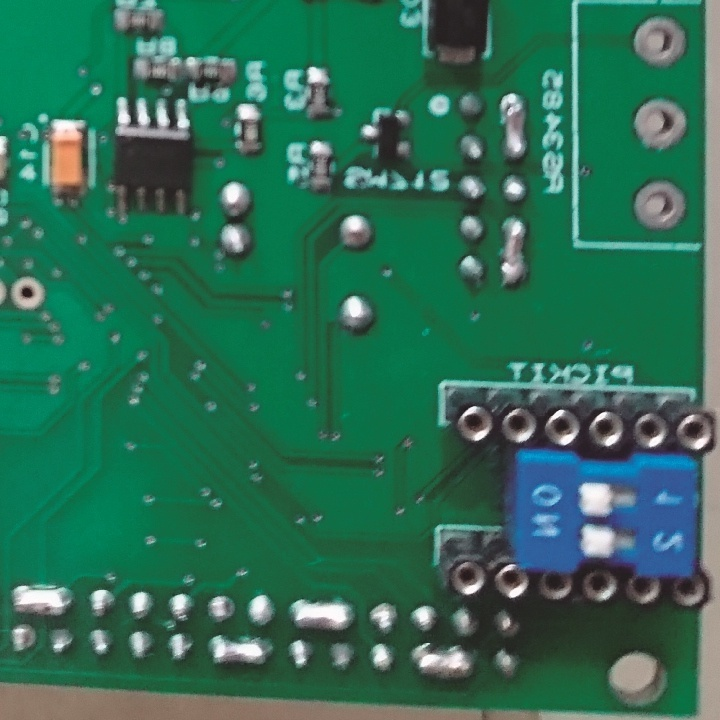F: (631, 95, 689, 158), (628, 13, 687, 68), (629, 178, 687, 233), (10, 275, 47, 315), (367, 598, 401, 637), (204, 591, 236, 626), (7, 625, 37, 658)
P: (410, 641, 475, 683), (207, 634, 277, 673), (287, 597, 353, 633), (10, 583, 74, 620), (496, 212, 528, 286), (499, 92, 530, 166)
